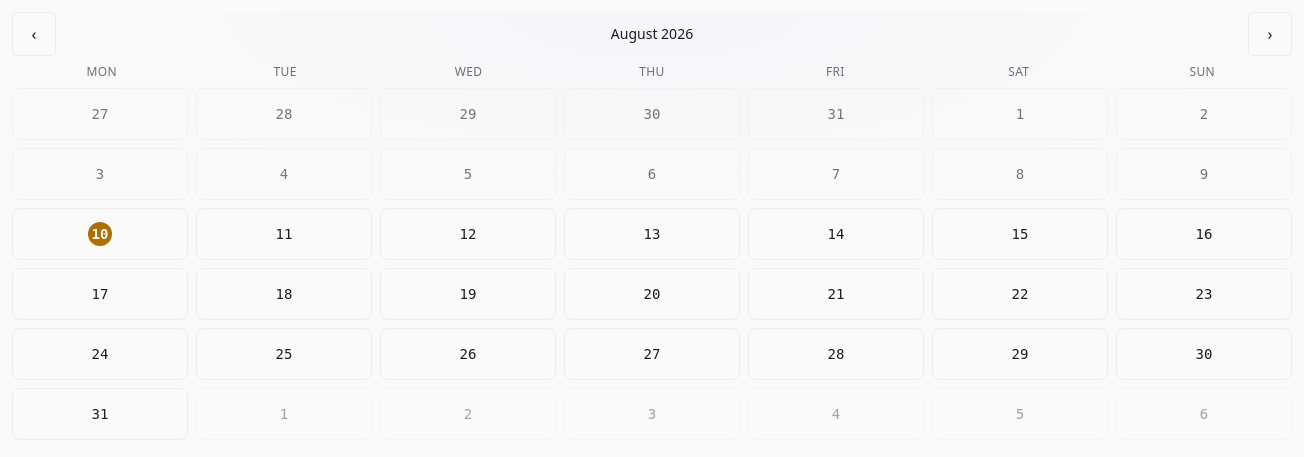
TripsCalendar › still navigates via the ‹ › buttons after swipe support is added
Click the button with test id "calendar-next".
click(1270, 34)  # box [1248, 12, 1292, 56]
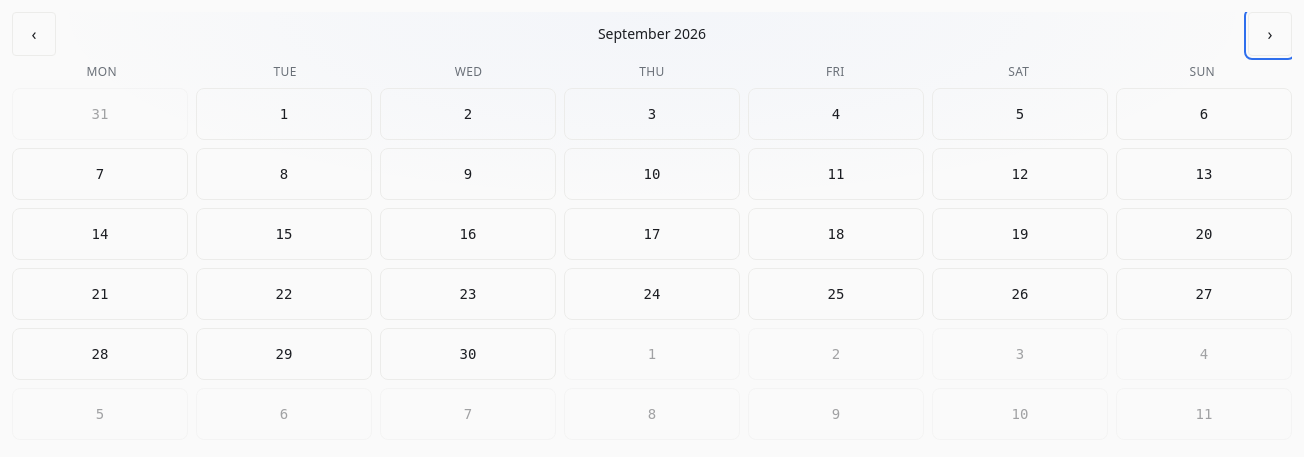
Expected: the text "September 2026" is shown, [598, 24, 706, 44]
Click the button with test id "calendar-prev".
click(34, 34)  # box [12, 12, 56, 56]
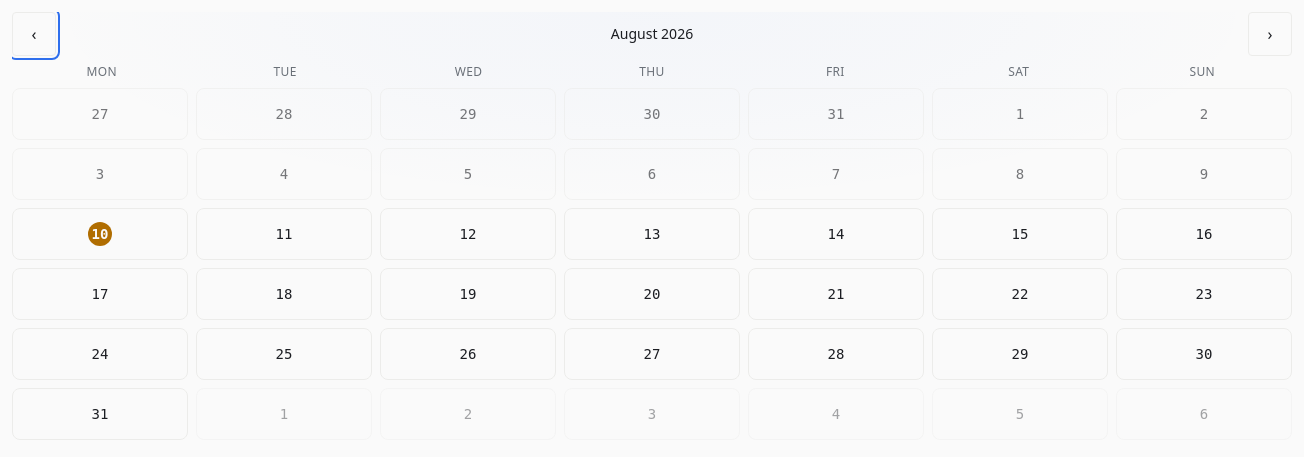
Expected: the text "August 2026" is shown, [611, 24, 693, 44]
